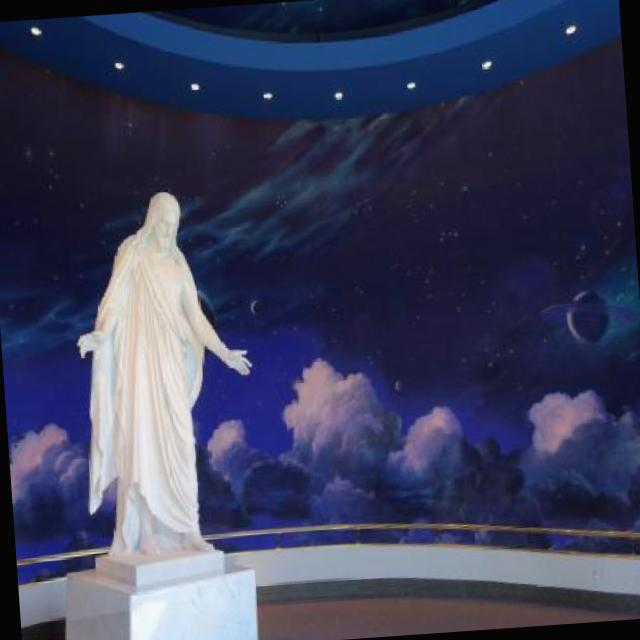Person: (56, 182, 263, 569)
